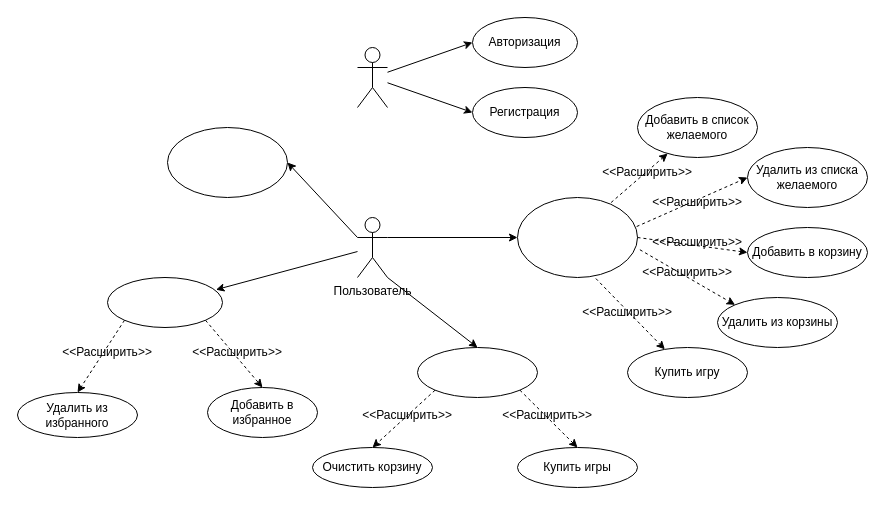
Some shapes in this 885 by 505 pixel diagram are drawn without their labels. Here are the shapes that lost their labels. From the top down, the box of each, then its label:
(356, 46, 388, 108): Гость
(166, 126, 288, 198): Изменить данные аккаунта
(516, 196, 638, 278): Просмотр списка видеоигр
(106, 276, 222, 328): Просмотр библиотеки
(416, 346, 538, 398): Просмотр корзины
